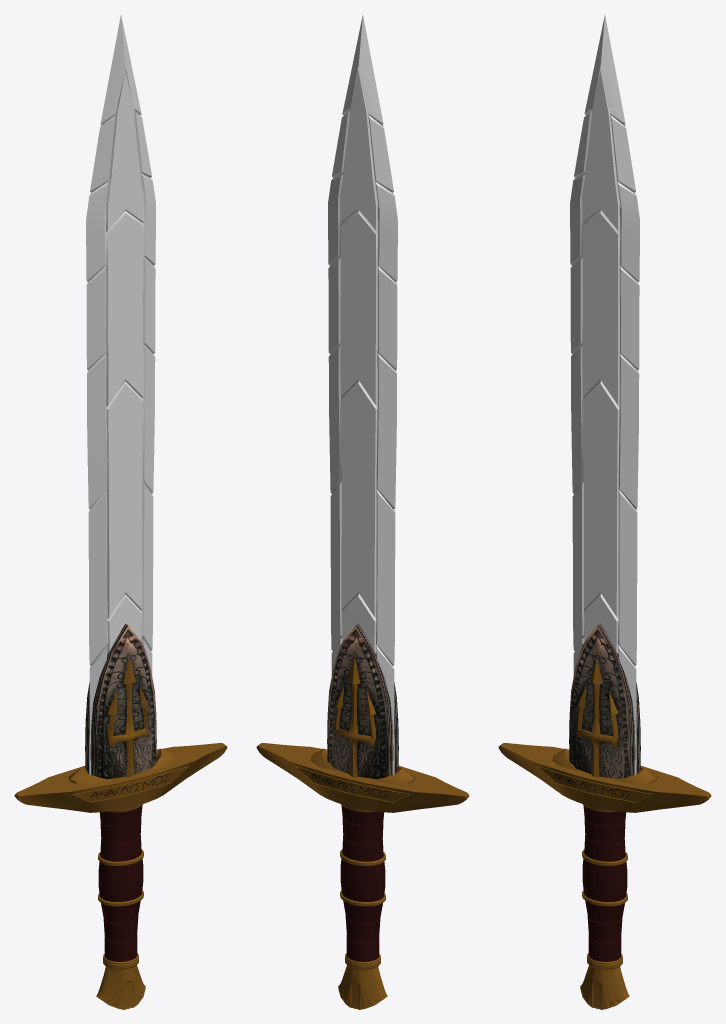
File: Riptide2.obj
The picture shows the model from 3 angles, left to right: view 1: azimuth 30°, elevation 25°; view 2: azimuth 150°, elevation 25°; view 3: azimuth 330°, elevation 25°; orthographic projection.
Visible parts, largest first — view 1: Blade001_Mesh.004, Object001_Mesh.005, Hilt001_Mesh.001, Riptide001_Mesh, End001_Mesh.008, Trident001_Mesh.006; view 2: Blade001_Mesh.004, Object001_Mesh.005, Hilt001_Mesh.001, Riptide001_Mesh, End001_Mesh.008, Trident001_Mesh.006; view 3: Blade001_Mesh.004, Object001_Mesh.005, Hilt001_Mesh.001, Riptide001_Mesh, End001_Mesh.008, Trident001_Mesh.006.
Boxes of the visible parts, x1,y1,x2,y2 form: Blade001_Mesh.004: (86,15,155,774); Object001_Mesh.005: (85,623,156,779); Hilt001_Mesh.001: (14,743,227,812); Riptide001_Mesh: (98,804,143,964); End001_Mesh.008: (96,956,145,1009); Trident001_Mesh.006: (107,657,148,777); Blade001_Mesh.004: (328,15,397,774); Object001_Mesh.005: (327,623,398,779); Hilt001_Mesh.001: (256,743,469,812); Riptide001_Mesh: (340,804,385,964); End001_Mesh.008: (338,956,387,1009); Trident001_Mesh.006: (335,657,376,777); Blade001_Mesh.004: (570,15,639,774); Object001_Mesh.005: (569,623,640,779); Hilt001_Mesh.001: (498,743,711,812); Riptide001_Mesh: (582,804,627,964); End001_Mesh.008: (580,956,629,1009); Trident001_Mesh.006: (577,657,618,777).
Bounding box in the file's own units: 0.7316 × 3.3 × 0.163.
